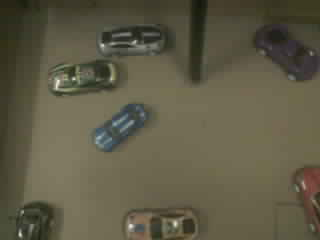Car: (255, 25, 318, 79), (95, 104, 146, 151), (125, 208, 197, 239), (49, 60, 116, 93), (98, 24, 165, 55), (295, 167, 319, 232), (18, 202, 52, 239)
